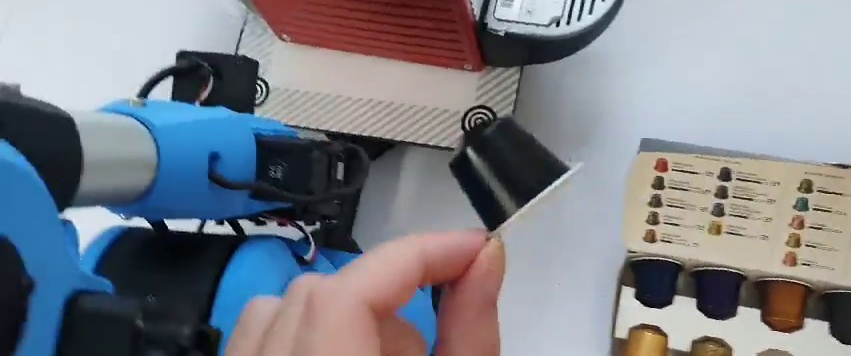capsule_10: (447, 116, 585, 239)
